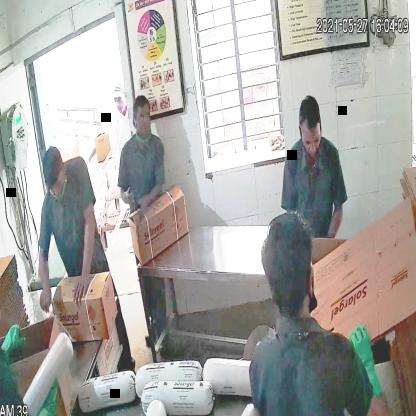no_goggles: (294, 127, 328, 151)
